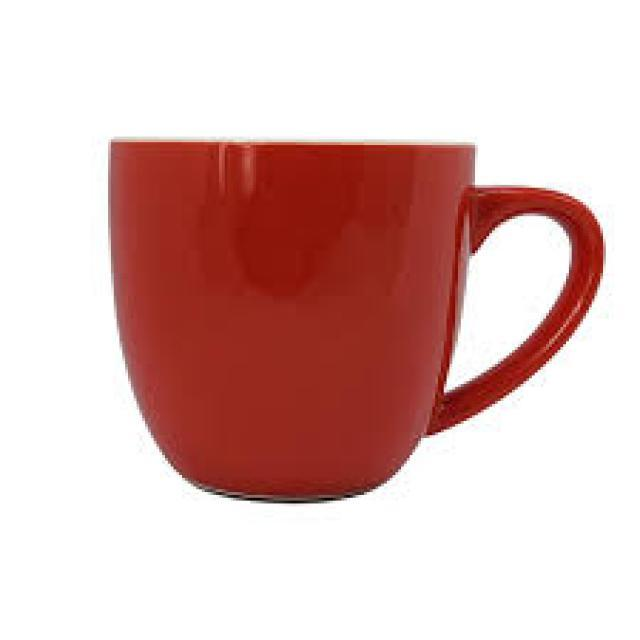taza: (109, 134, 606, 507)
